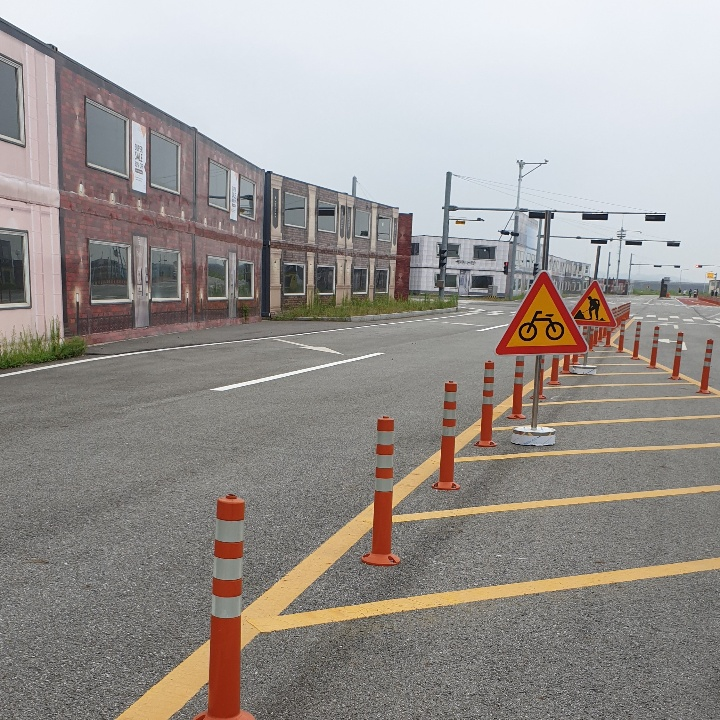bicycle: (497, 268, 591, 356)
const: (575, 291, 609, 324)
